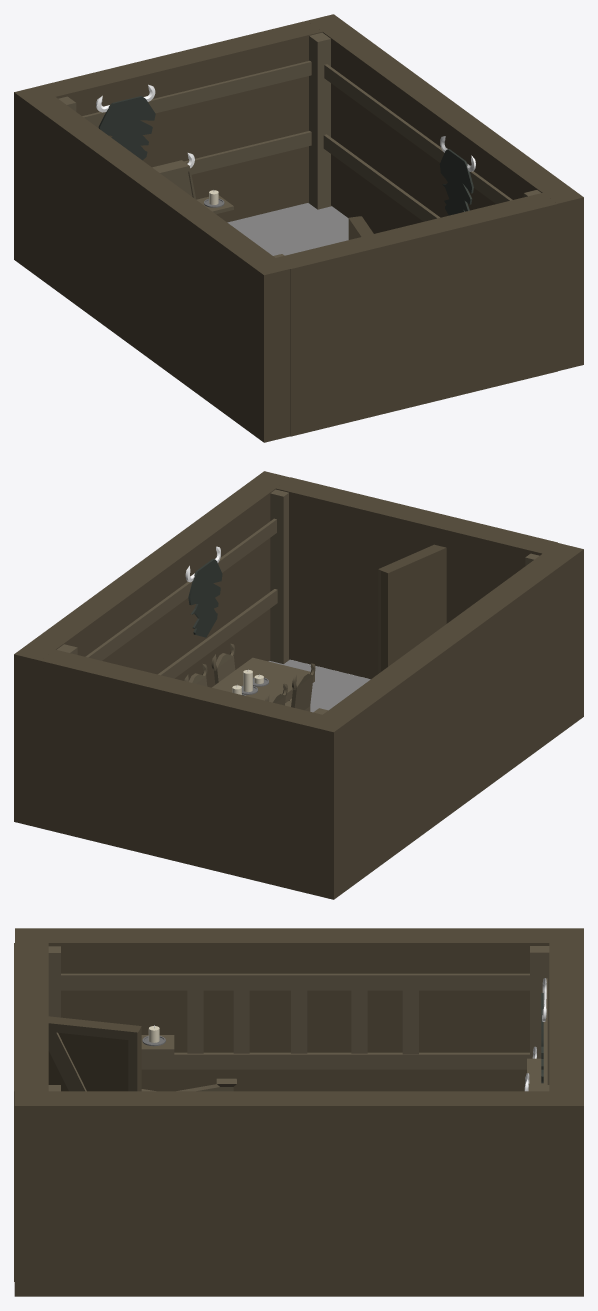
Rendered from maisons_interieur.fbx.
3 renders of one model, top to bottom at view 1: azimuth 30°, elevation 25°; view 2: azimuth 150°, elevation 25°; view 3: azimuth 270°, elevation 25°, orthographic. The views are drawn at different scales.
Visible parts, largest first — view 1: walls, ground, flag2, flag1, bed; view 2: walls, table, flag1, ground; view 3: walls, tablette, bench.
Part boxes in pixels (x1,y1,x2,y2): walls: (14, 14, 583, 442); ground: (227, 203, 348, 255); flag2: (96, 84, 155, 160); flag1: (439, 136, 475, 215); bed: (152, 160, 196, 199); walls: (14, 471, 583, 899); table: (184, 643, 315, 711); flag1: (185, 546, 222, 637); ground: (268, 659, 370, 712); walls: (14, 928, 583, 1296); tablette: (141, 1035, 174, 1055); bench: (141, 1078, 236, 1091).
Bounding box in the file's own units: 73.14 × 37.13 × 99.27.
